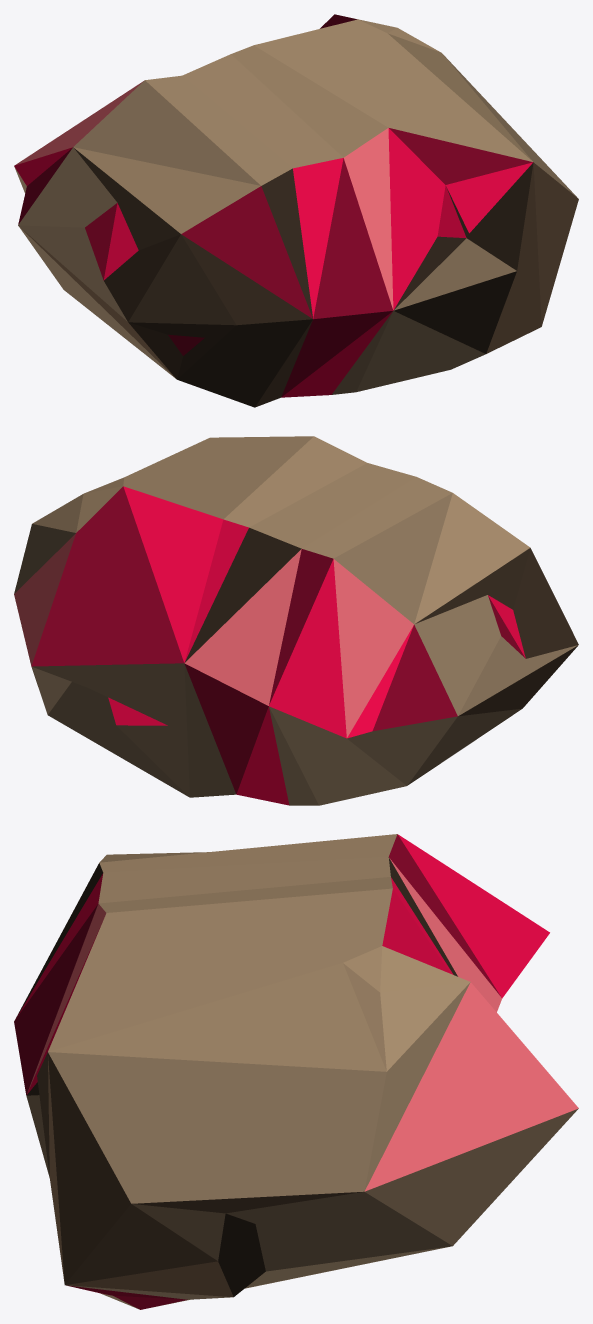
Rendered from CrimsoniteOreRock.glb.
3 views of the same model, one above another, from view 1: azimuth 30°, elevation 25°; view 2: azimuth 150°, elevation 25°; view 3: azimuth 270°, elevation 25° (orthographic). The views are drawn at different scales.
Parts seen in each view (by area): view 1: CrimsoniteOreRock_ExportDarkBrown; view 2: CrimsoniteOreRock_ExportDarkBrown; view 3: CrimsoniteOreRock_ExportDarkBrown.
Part boxes in pixels (box(x1,y1,x2,y2)): CrimsoniteOreRock_ExportDarkBrown: box(14, 14, 578, 407); CrimsoniteOreRock_ExportDarkBrown: box(14, 436, 578, 805); CrimsoniteOreRock_ExportDarkBrown: box(14, 834, 578, 1309).
Bounding box in the file's own units: 0.2701 × 0.1591 × 0.2236.
